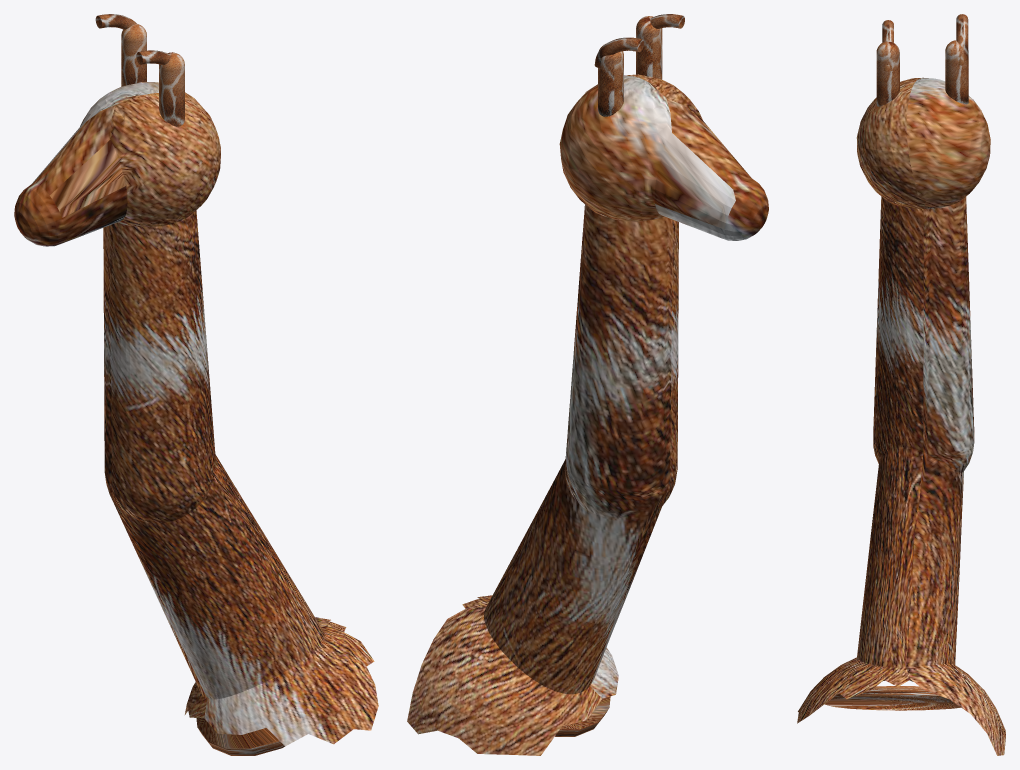
The model's file is cuelloAnim.obj.
3 views of the same model, side by side, from view 1: azimuth 30°, elevation 25°; view 2: azimuth 150°, elevation 25°; view 3: azimuth 270°, elevation 25° (orthographic). The views are drawn at different scales.
Visible parts, largest first — view 1: cuelloJirafa, Cylinder001, mesh_id37, mesh_id43; view 2: cuelloJirafa, mesh_id43, mesh_id37, Cylinder001, mesh_id55; view 3: cuelloJirafa, Cylinder001, mesh_id37, mesh_id43, mesh_id55.
Part boxes in pixels (x1=…): cuelloJirafa: x1=14, y1=82, x2=378, y2=746; Cylinder001: x1=196, y1=718, x2=284, y2=755; mesh_id37: x1=159, y1=52, x2=184, y2=126; mesh_id43: x1=121, y1=23, x2=146, y2=86; cuelloJirafa: x1=407, y1=74, x2=768, y2=755; mesh_id43: x1=598, y1=44, x2=623, y2=116; mesh_id37: x1=636, y1=16, x2=662, y2=79; Cylinder001: x1=555, y1=696, x2=610, y2=736; mesh_id55: x1=594, y1=37, x2=643, y2=68; cuelloJirafa: x1=797, y1=77, x2=1005, y2=755; Cylinder001: x1=824, y1=686, x2=960, y2=710; mesh_id37: x1=876, y1=41, x2=899, y2=106; mesh_id43: x1=945, y1=40, x2=968, y2=104; mesh_id55: x1=956, y1=14, x2=968, y2=65.
Bounding box in the file's own units: 0.1685 × 0.3737 × 0.107.
2 materials, 2 textured.
